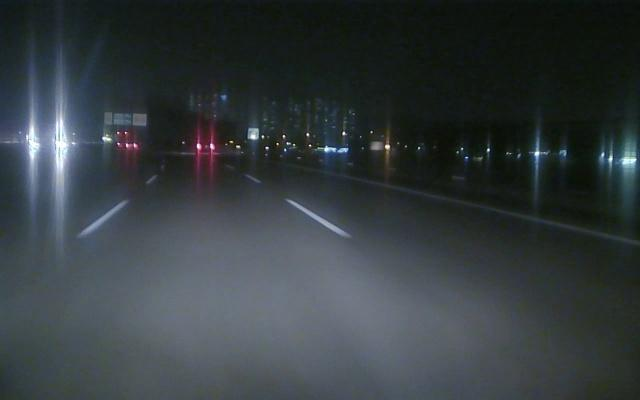lane: (356, 176, 640, 248), (243, 171, 356, 243), (72, 171, 162, 241)
